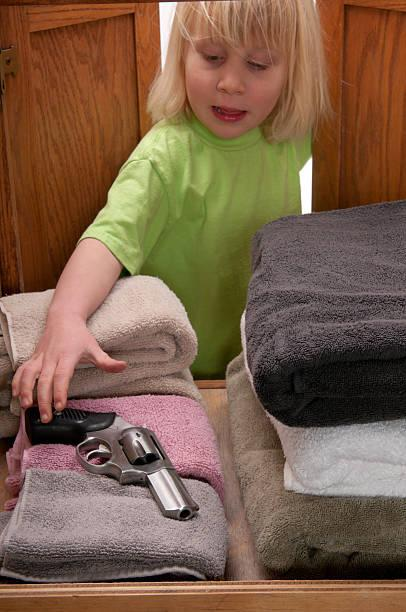weapon: (22, 402, 201, 521)
